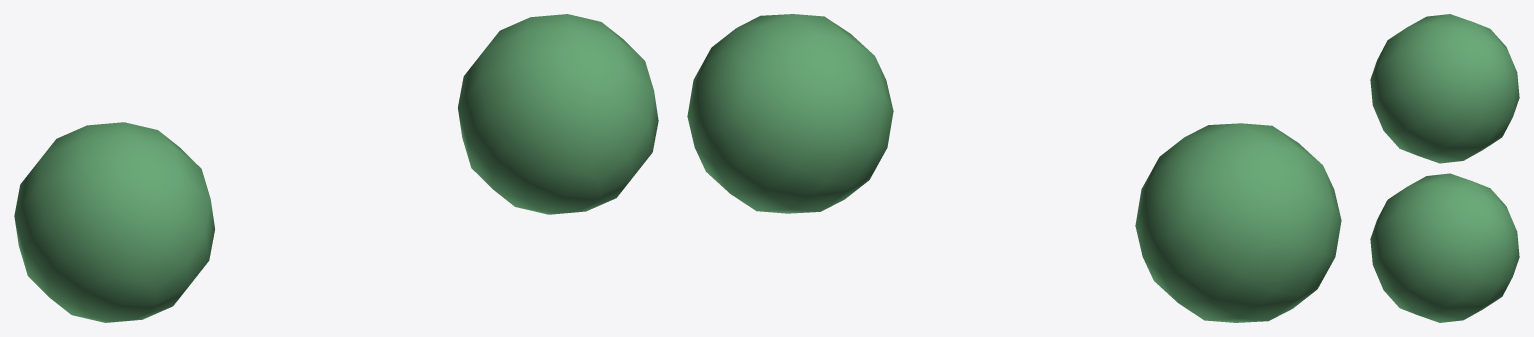
3 renders of one model, left to right at view 1: azimuth 30°, elevation 25°; view 2: azimuth 150°, elevation 25°; view 3: azimuth 270°, elevation 25°, orthographic. The views are drawn at different scales.
Parts seen in each view (by area): view 1: 右侧腋尖淋巴结; view 2: 右侧腋尖淋巴结; view 3: 右侧腋尖淋巴结.
Part boxes in pixels (<box>): 右侧腋尖淋巴结: <box>14,14,658,322</box>; 右侧腋尖淋巴结: <box>687,14,1341,322</box>; 右侧腋尖淋巴结: <box>1370,14,1519,322</box>.
Bounding box in the file's own units: 0.0134 × 0.00376 × 0.0038.
